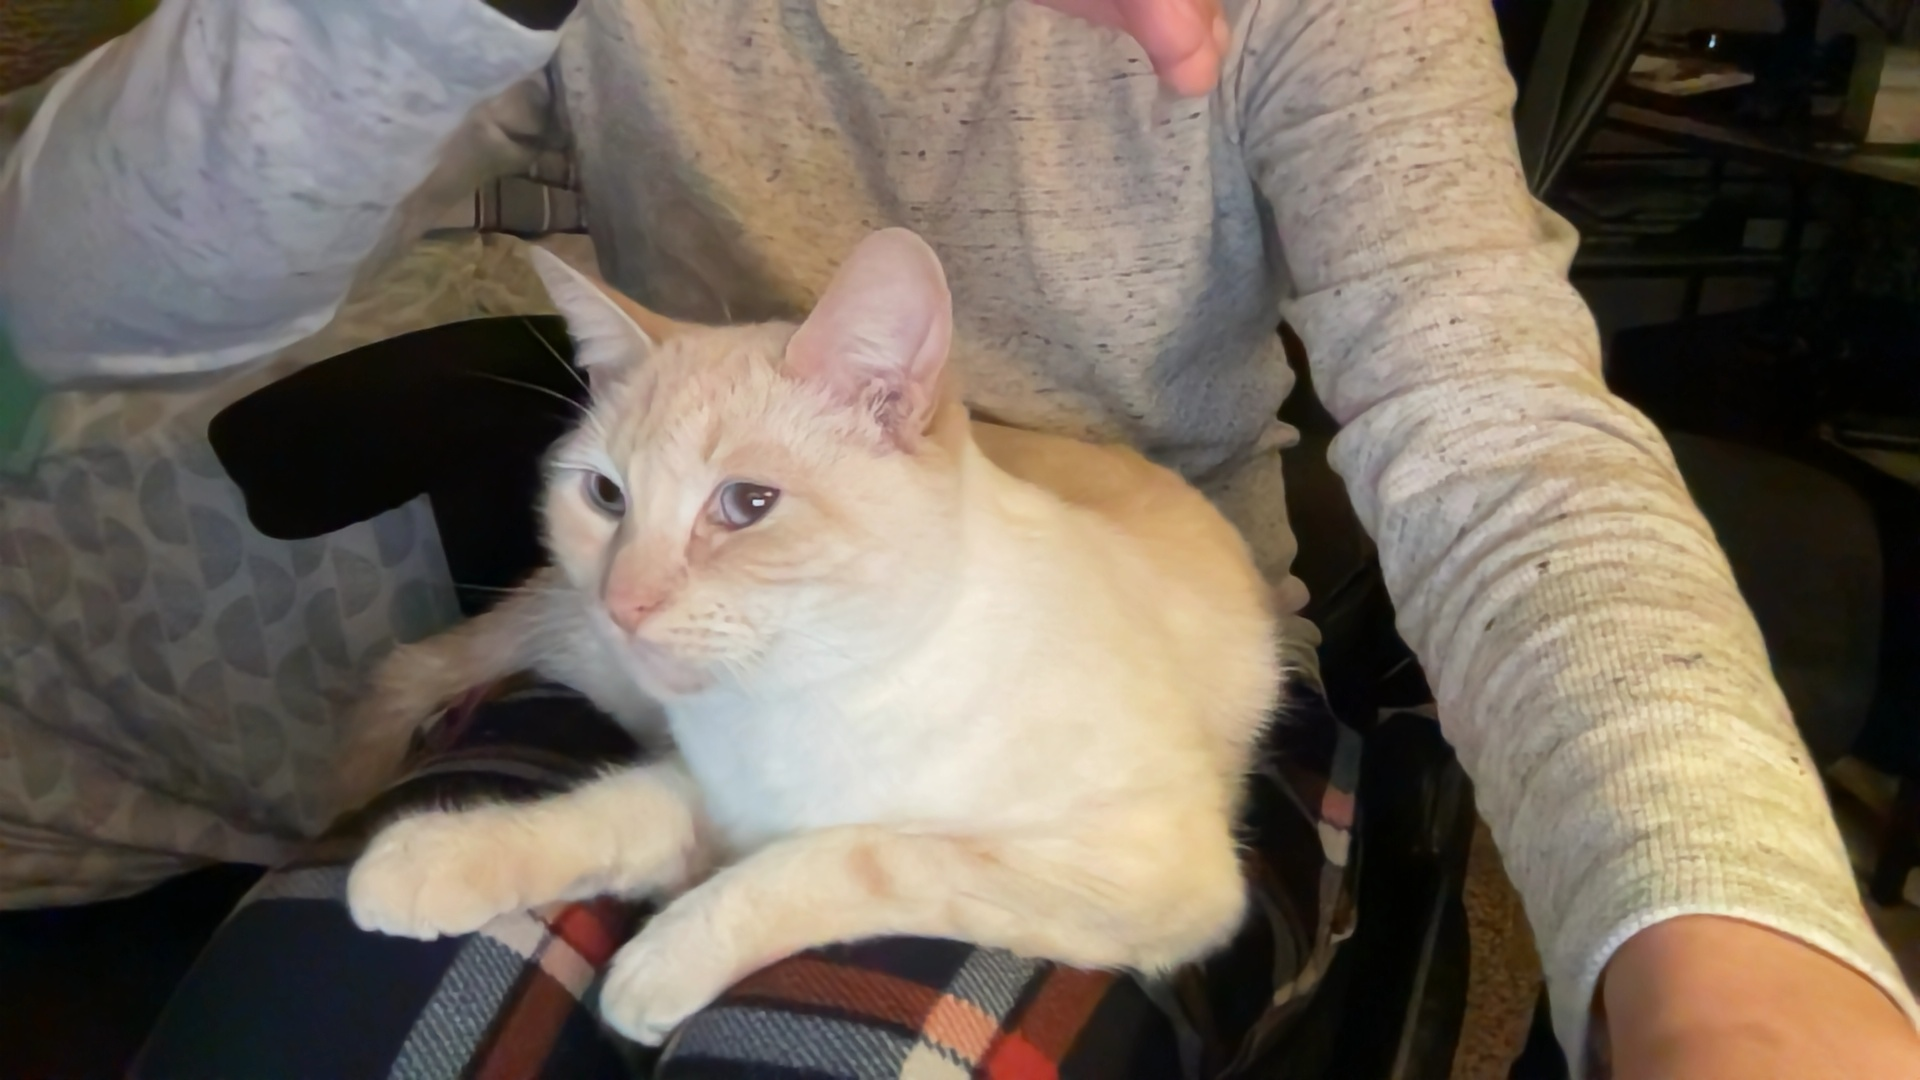cat: (334, 212, 1298, 1030)
